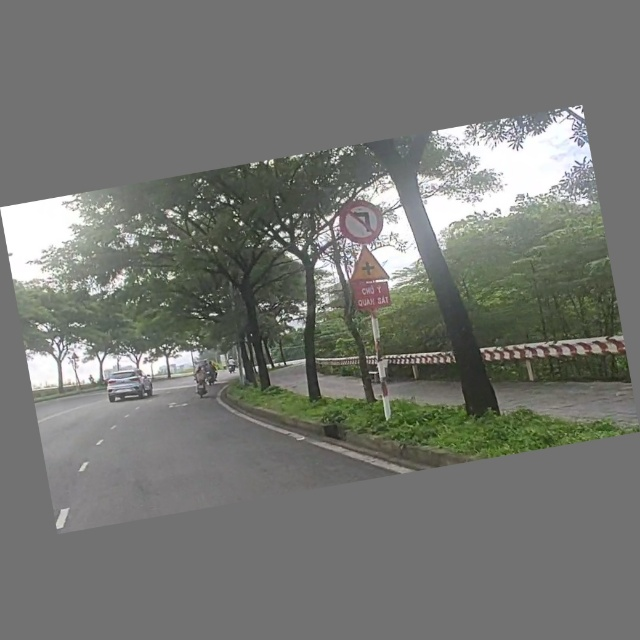P.123a: (336, 195, 392, 249)
W.205a: (343, 243, 392, 287)
